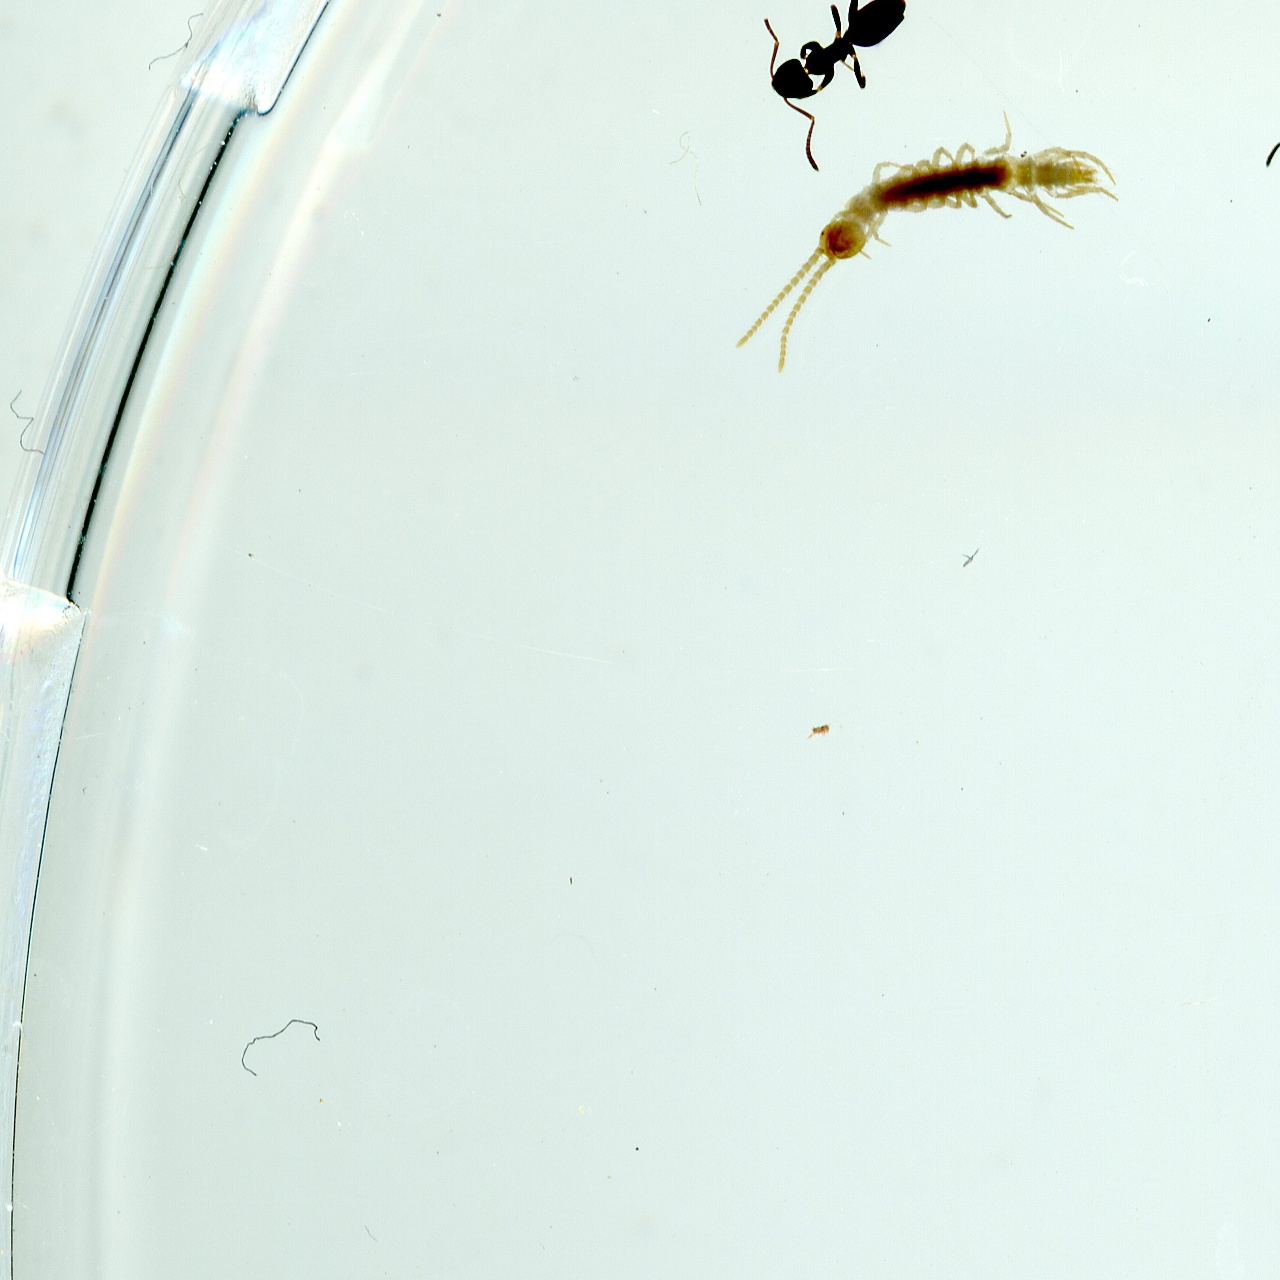arthropod: (738, 114, 1130, 389), (745, 0, 907, 175), (1265, 64, 1280, 245)
